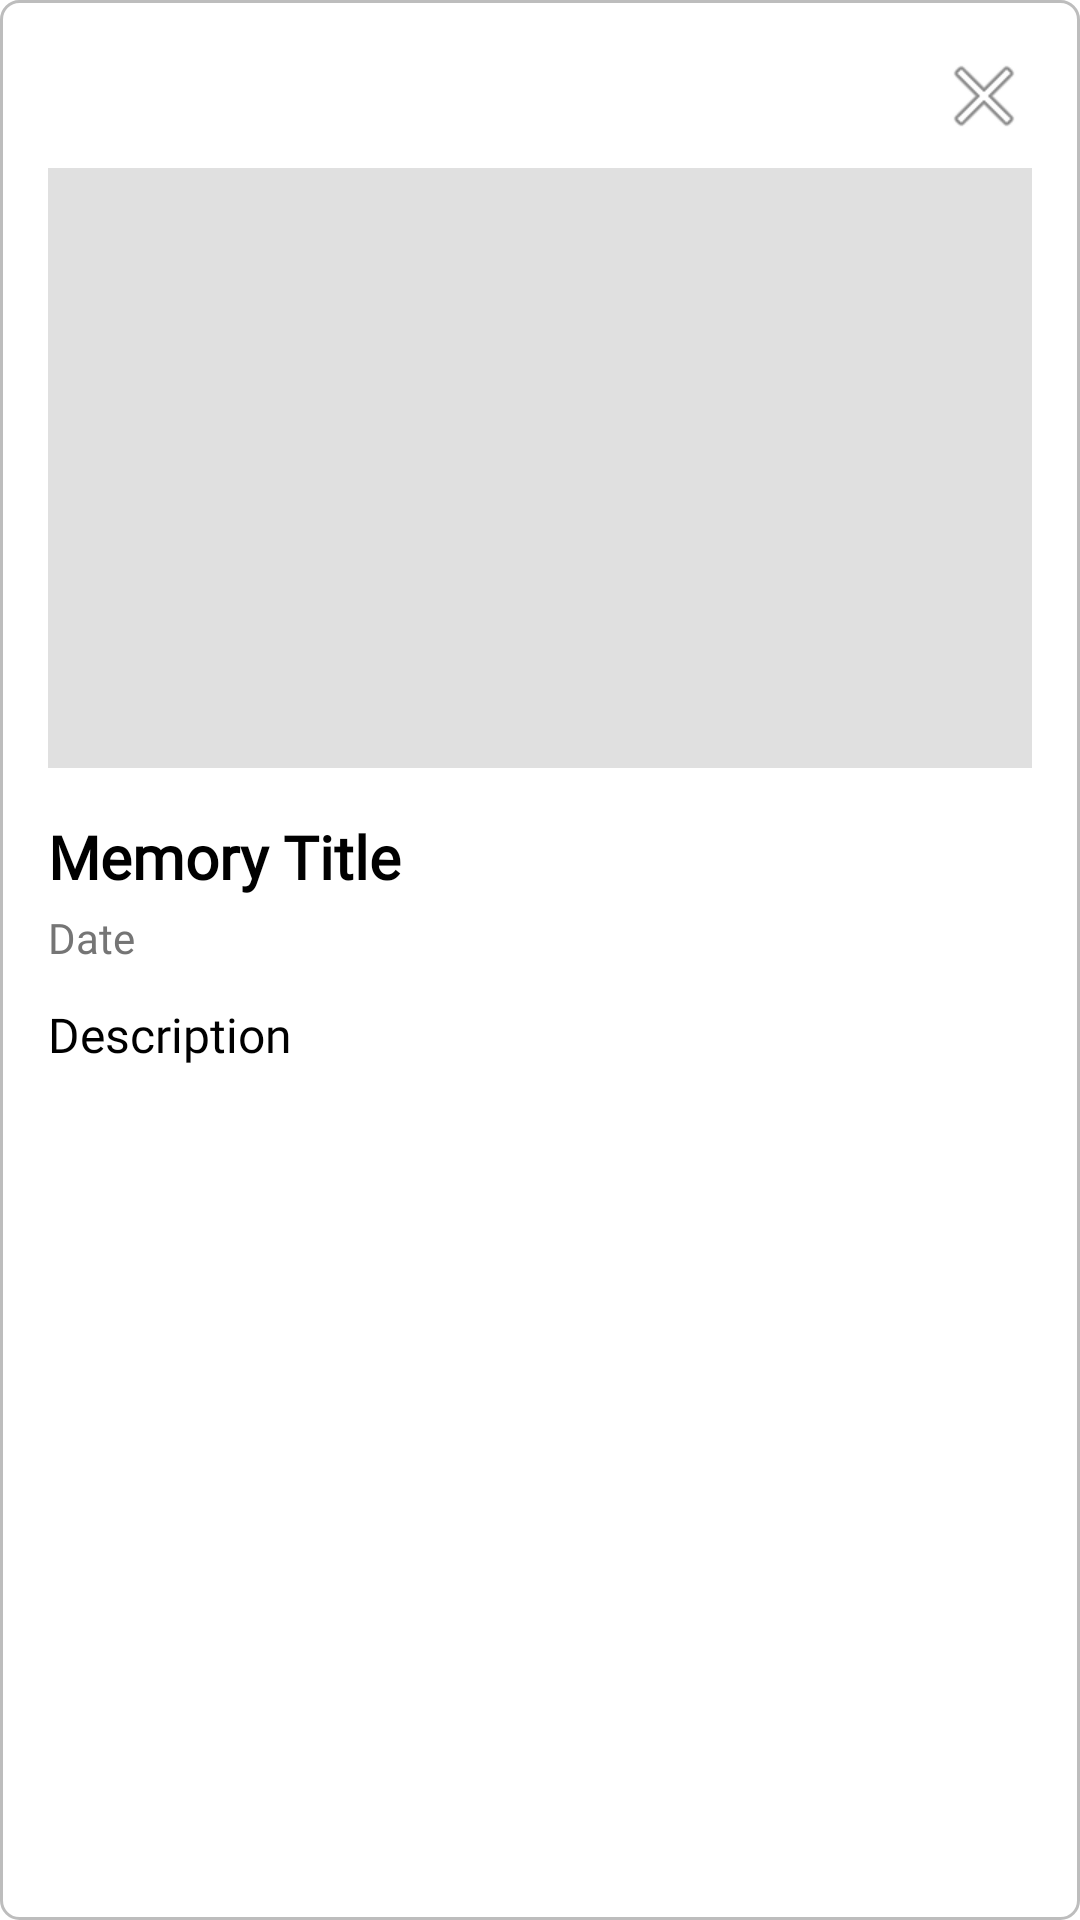

Screen size 1080×1920. Icon name, then its center in pixels as (x=x, y=y):
Close: (x=984, y=96)
